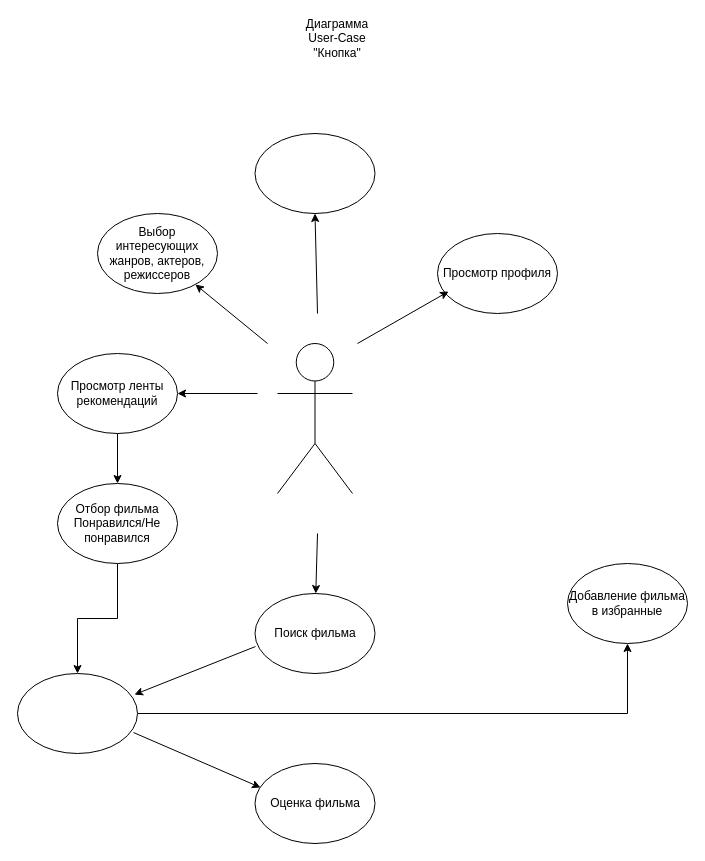
The diagram is 705 pixels wide and 861 high, and some of its shapes have lost their labels. Each missing label, with the box of its shape:
User: (276, 342, 352, 494)
Запуск приложения: (254, 132, 375, 214)
Просмотр страницы фильма: (16, 672, 138, 754)
